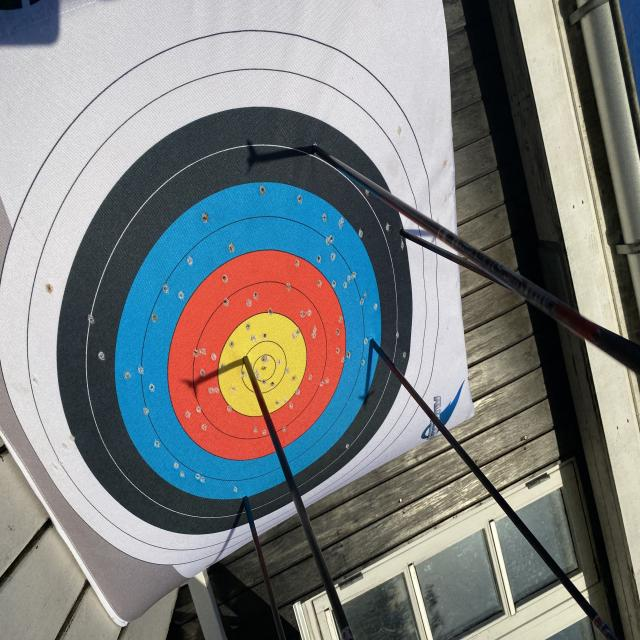Arrow_Black: (301, 130, 333, 170), (232, 486, 260, 520), (396, 219, 414, 251)
Arrow_Blue: (366, 324, 382, 365)
Arrow_Yellow: (237, 342, 259, 383)
